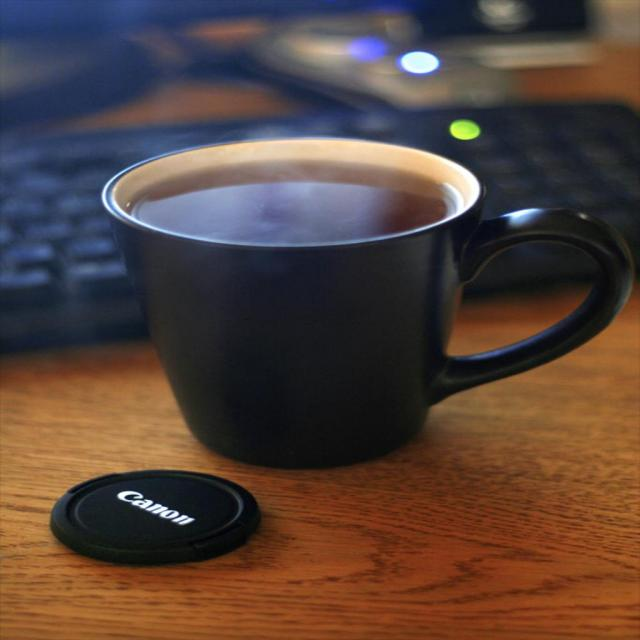Coffee: (111, 132, 608, 460)
Tea: (125, 157, 460, 244)
